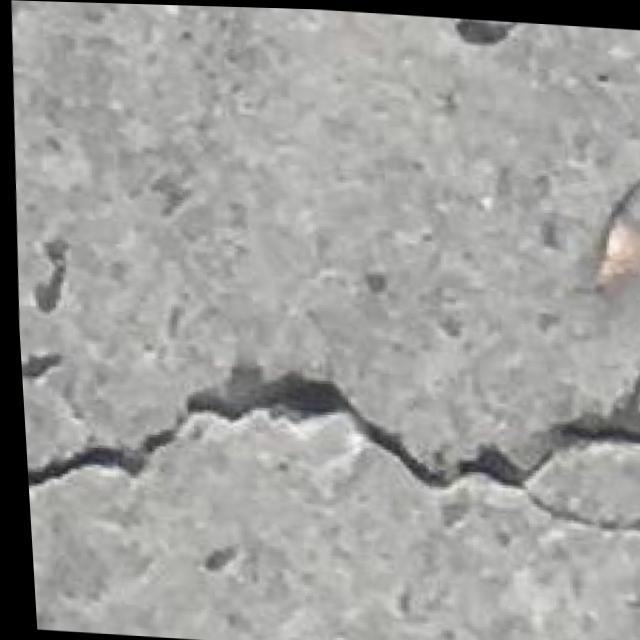Crack: (14, 302, 640, 607)
